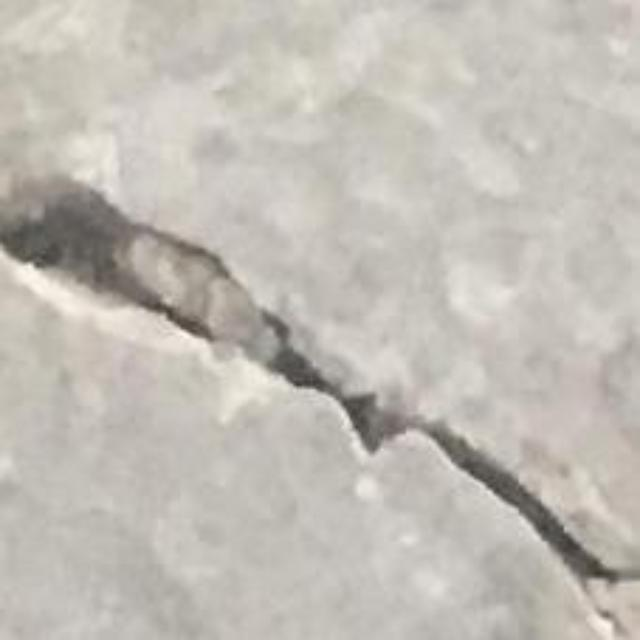crack: (0, 178, 639, 639)
